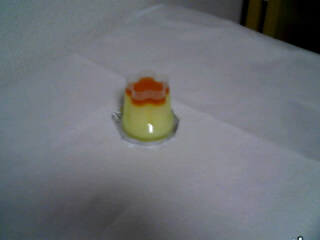001_classes: (104, 69, 198, 152)
